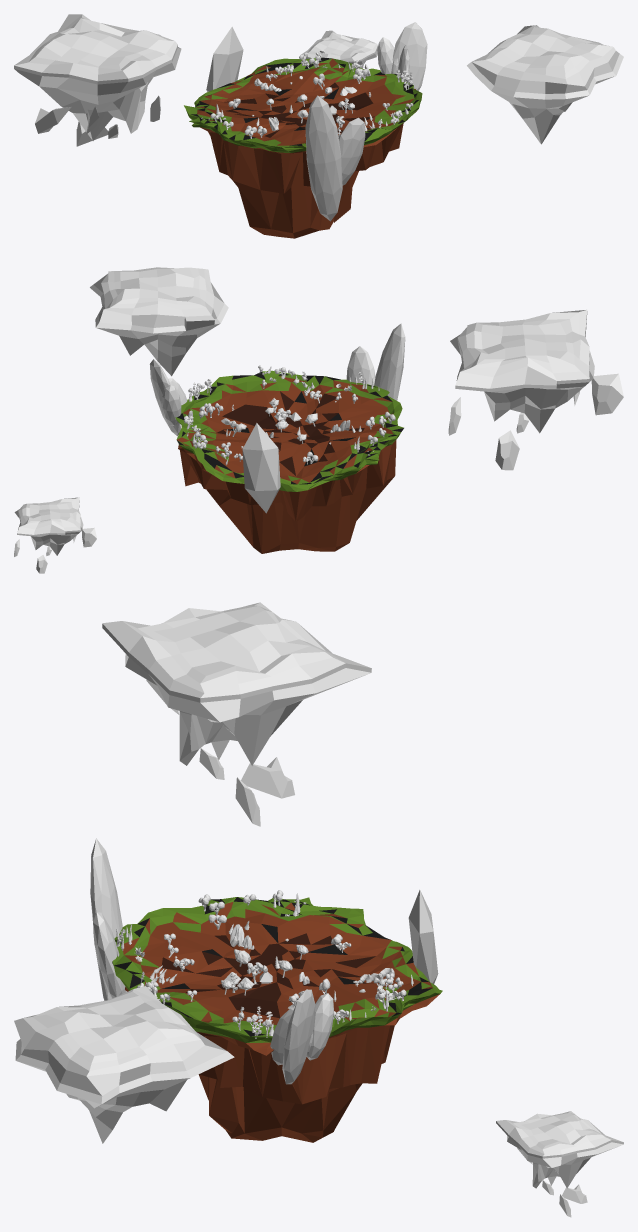
File: enviro.fbx
3 views of the same model, one above another, from view 1: azimuth 30°, elevation 25°; view 2: azimuth 150°, elevation 25°; view 3: azimuth 270°, elevation 25° (orthographic). The views are drawn at different scales.
Parts seen in each view (by area): view 1: islands, L1, rocksbig, rock; view 2: L1, islands, rocksbig; view 3: islands, L1, rocksbig.
Part boxes in pixels (left/top/right/bottom): islands: left=14, top=14, right=623, bottom=146; L1: left=184, top=57, right=422, bottom=238; rocksbig: left=206, top=22, right=427, bottom=221; rock: left=254, top=64, right=370, bottom=131; L1: left=175, top=370, right=403, bottom=553; islands: left=14, top=267, right=623, bottom=573; rocksbig: left=149, top=323, right=405, bottom=513; islands: left=14, top=602, right=623, bottom=1217; L1: left=112, top=897, right=442, bottom=1142; rocksbig: left=90, top=838, right=438, bottom=1084.
Size of the model in its own units: 27981 by 11847 by 18667.
